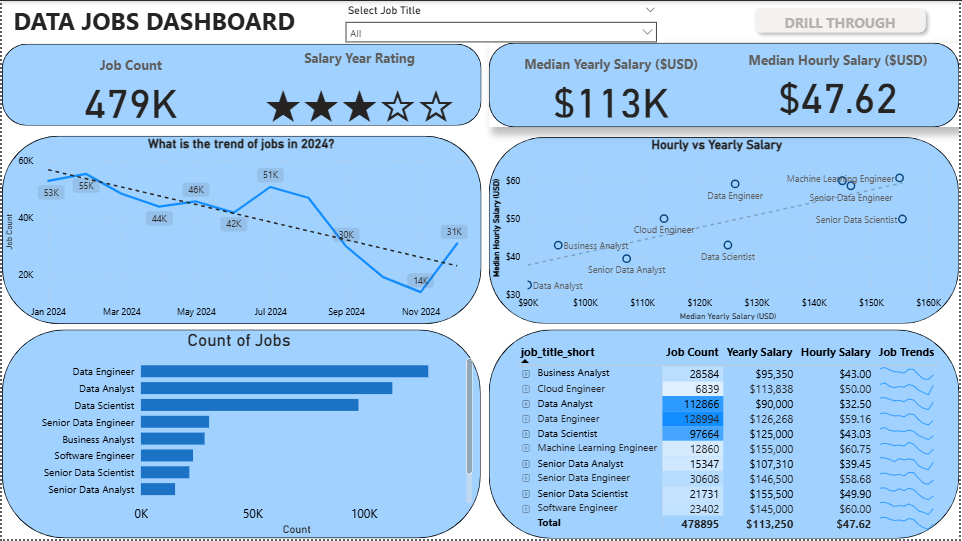

This screenshot's page, from the dashboard's own definition file:
{"tool":"powerbi","page":{"name":"Data Jobs Dashboard","canvas":[1280,720],"ordinal":0},"visuals":[{"type":"group","id":"g1","title":"Group 1","box":[0,56,1279.9,663.4],"z":0},{"type":"shape","box":[0,57.7,640.8,109.4],"z":0,"group":"g1"},{"type":"textbox","box":[10.4,0,628.7,55.6],"z":1000},{"type":"shape","box":[651.2,439.8,628.7,279.6],"z":1000,"group":"g1"},{"type":"slicer","fields":{"Values":["job_postings_flat.job_title_short"]},"box":[449.4,0,436.3,55.1],"z":2000},{"type":"shape","box":[0,440,639.8,279],"z":2000,"group":"g1"},{"type":"cardVisual","fields":{"Data":["CountNonNull(job_postings_flat.job_title_short)"]},"box":[26,57.3,293.5,104.2],"z":3000},{"type":"shape","box":[651.1,182.1,628.4,249.8],"z":3000,"group":"g1"},{"type":"cardVisual","fields":{"Data":["job_postings_flat.Ratings"]},"box":[321.3,46.9,312.6,123.3],"z":4000},{"type":"shape","box":[0,180.5,640.8,251.6],"z":4000,"group":"g1"},{"type":"cardVisual","fields":{"Data":["Median(job_postings_flat.salary_year_avg)"]},"box":[672.1,55.6,284.8,105.9],"z":5000},{"type":"shape","box":[651.2,56,628.7,112.9],"z":5000,"group":"g1"},{"type":"cardVisual","fields":{"Data":["Median(job_postings_flat.salary_hour_avg)"]},"box":[976,50.4,284.8,111.1],"z":6000},{"type":"lineChart","title":"What is the trend of jobs in 2024?","fields":{"Category":["job_postings_flat.job_posted_date.Variation.Date Hierarchy.Year","job_postings_flat.job_posted_date.Variation.Date Hierarchy.Quarter","job_postings_flat.job_posted_date.Variation.Date Hierarchy.Month","job_postings_flat.job_posted_date.Variation.Date Hierarchy.Day"],"Y":["CountNonNull(job_postings_flat.job_title_short)"]},"box":[0,180.2,639.8,253.3],"z":7000},{"type":"scatterChart","title":"Hourly vs Yearly Salary","fields":{"Y":["Median(job_postings_flat.salary_hour_avg)"],"X":["Median(job_postings_flat.salary_year_avg)"],"Series":["job_postings_flat.job_title_short"]},"box":[651.2,182.3,609.6,250.1],"z":8000},{"type":"barChart","title":"Count of Jobs","fields":{"Category":["job_postings_flat.job_title_short"],"Y":["CountNonNull(job_postings_flat.job_title_short)"]},"box":[0,439.4,633.9,279.6],"z":9000},{"type":"pivotTable","fields":{"Rows":["job_postings_flat.job_title_short","job_postings_flat.job_posted_date.Variation.Date Hierarchy.Quarter"],"Values":["CountNonNull(job_postings_flat.job_title_short)","Median(job_postings_flat.salary_year_avg)","Median(job_postings_flat.salary_hour_avg)","SparklineData(CountNonNull(job_postings_flat.job_title_short)_[job_postings_flat.job_posted_date.Variation.Date Hierarch"]},"box":[684.2,453.3,576.6,265.7],"z":10000},{"type":"actionButton","box":[997.3,0,246.4,50.7],"z":11000}]}

Visuals, with their boxes in screenshot pixels (x1, y1, x2, y2), scaled from the page's 1280x720 canvas onto the 962x541 screenshot:
"Group 1" group: [0, 42, 961, 540]
shape: [0, 43, 482, 126]
textbox: [8, 0, 480, 42]
shape: [489, 330, 961, 540]
slicer - job_postings_flat.job_title_short: [338, 0, 666, 41]
shape: [0, 331, 481, 540]
cardVisual - CountNonNull(job_postings_flat.job_title_short): [20, 43, 240, 121]
shape: [489, 137, 961, 325]
cardVisual - job_postings_flat.Ratings: [241, 35, 476, 128]
shape: [0, 136, 482, 325]
cardVisual - Median(job_postings_flat.salary_year_avg): [505, 42, 719, 121]
shape: [489, 42, 961, 127]
cardVisual - Median(job_postings_flat.salary_hour_avg): [734, 38, 948, 121]
"What is the trend of jobs in 2024?" lineChart: [0, 135, 481, 326]
"Hourly vs Yearly Salary" scatterChart: [489, 137, 948, 325]
"Count of Jobs" barChart: [0, 330, 476, 540]
pivotTable - job_postings_flat.job_title_short x job_postings_flat.job_posted_date.Variation.Date Hierarchy.Quarter: [514, 341, 948, 540]
actionButton: [750, 0, 935, 38]
